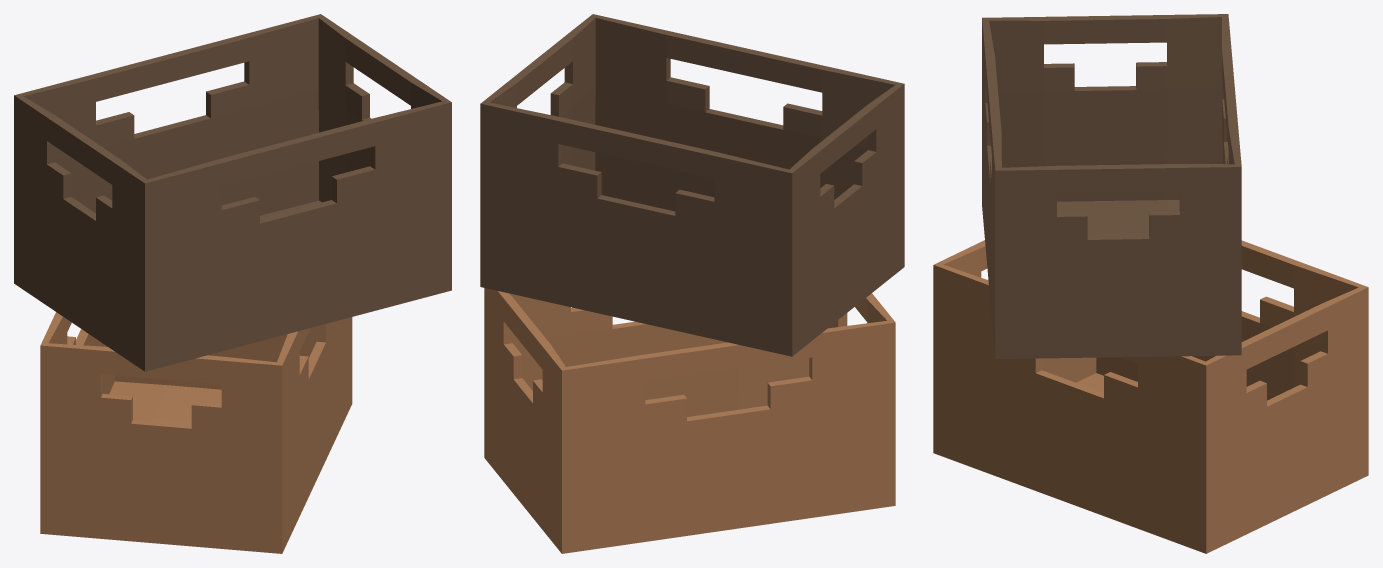
File: Casse.fbx
3 views of the same model, side by side, from view 1: azimuth 30°, elevation 25°; view 2: azimuth 150°, elevation 25°; view 3: azimuth 270°, elevation 25° (orthographic). The views are drawn at different scales.
Visible parts, largest first — view 1: Chest 2.002, Chest 2.001; view 2: Chest 2.002, Chest 2.001; view 3: Chest 2.002, Chest 2.001.
Part boxes in pixels (<box>): Chest 2.002: <box>14,14,451,371</box>; Chest 2.001: <box>40,312,352,553</box>; Chest 2.002: <box>480,14,904,356</box>; Chest 2.001: <box>484,288,895,553</box>; Chest 2.002: <box>982,14,1241,358</box>; Chest 2.001: <box>933,240,1368,553</box>.
Bounding box in the file's own units: 176 × 175 × 181.
